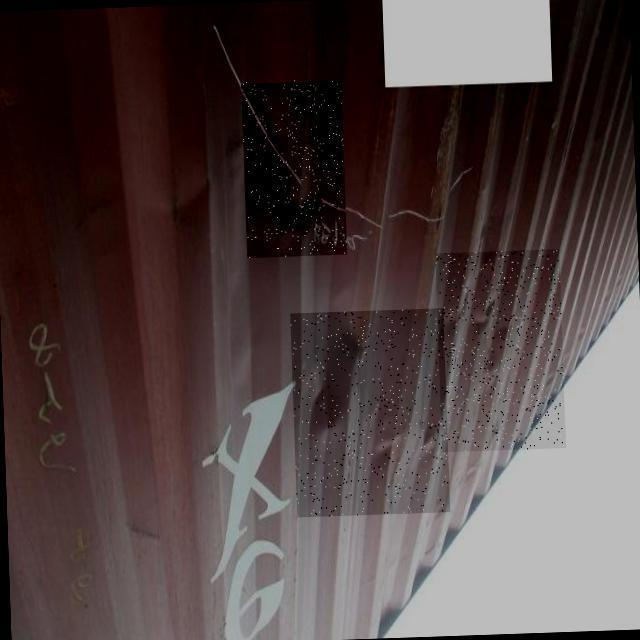dent: (291, 309, 451, 518), (436, 250, 567, 453), (242, 79, 348, 258)
